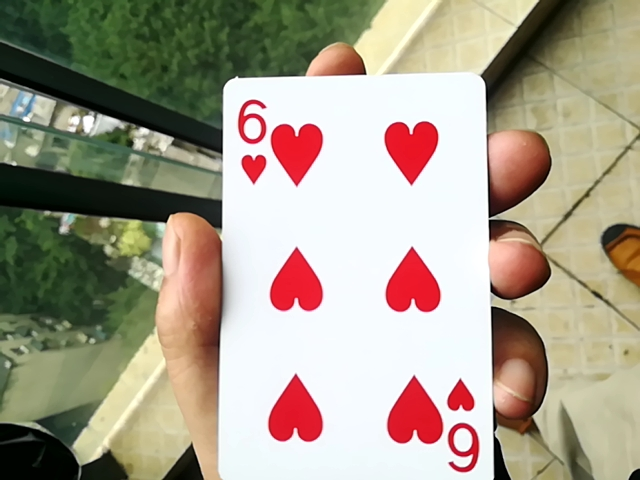hx 6: (208, 58, 499, 480)
